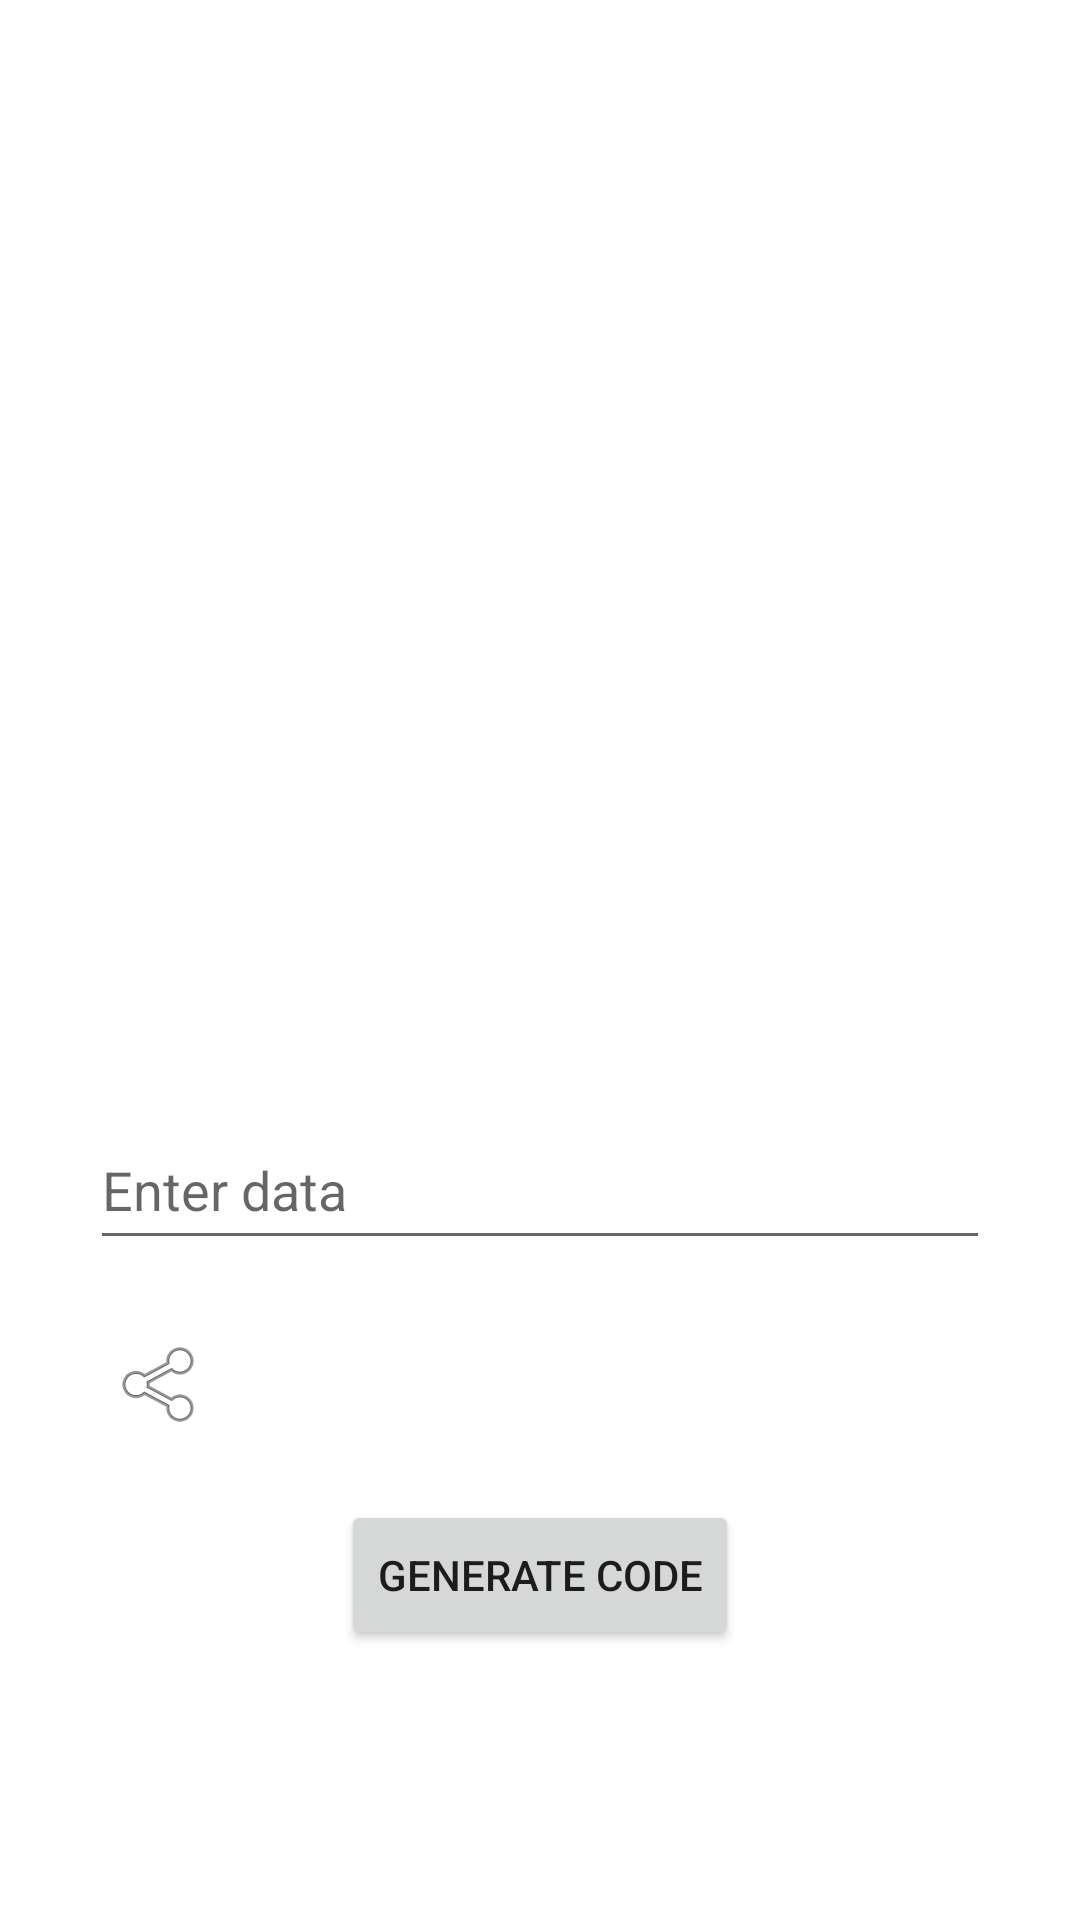

Icons on this 1080*1920 Android screen, each with its box as (x1, y1, x2, y2):
share: (122, 1347, 194, 1422)
